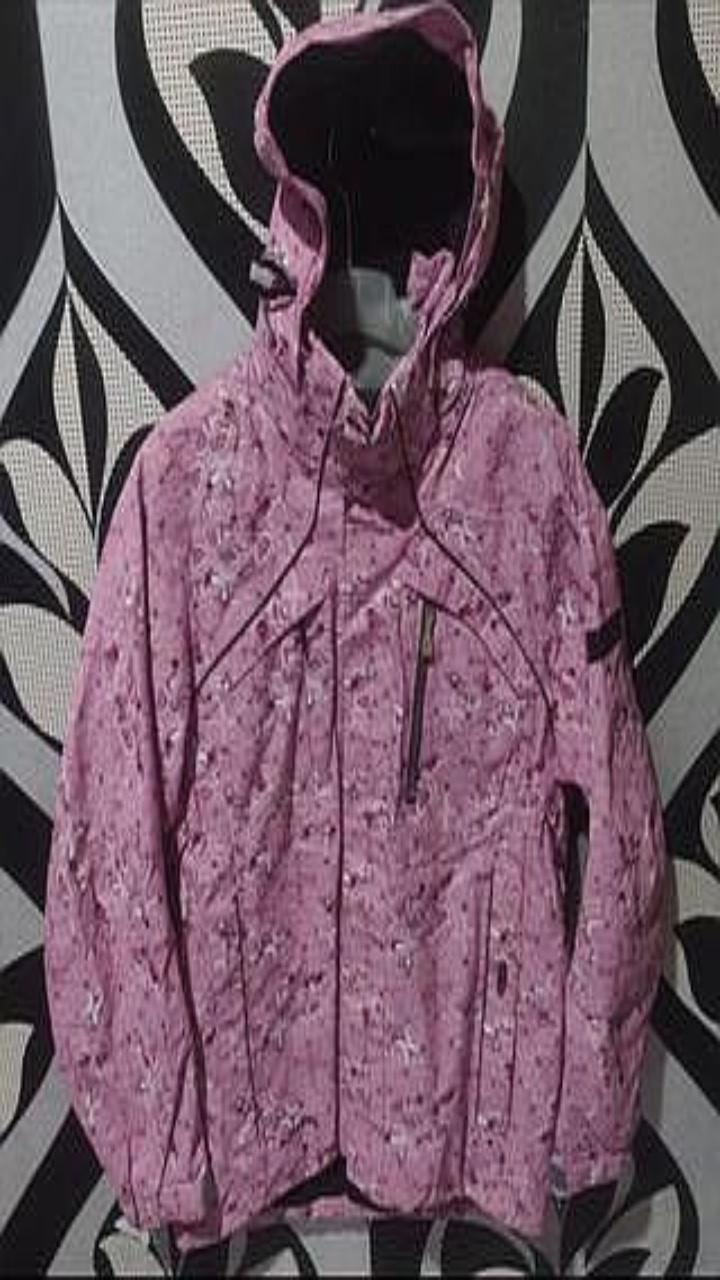Coat: (45, 3, 665, 1248)
